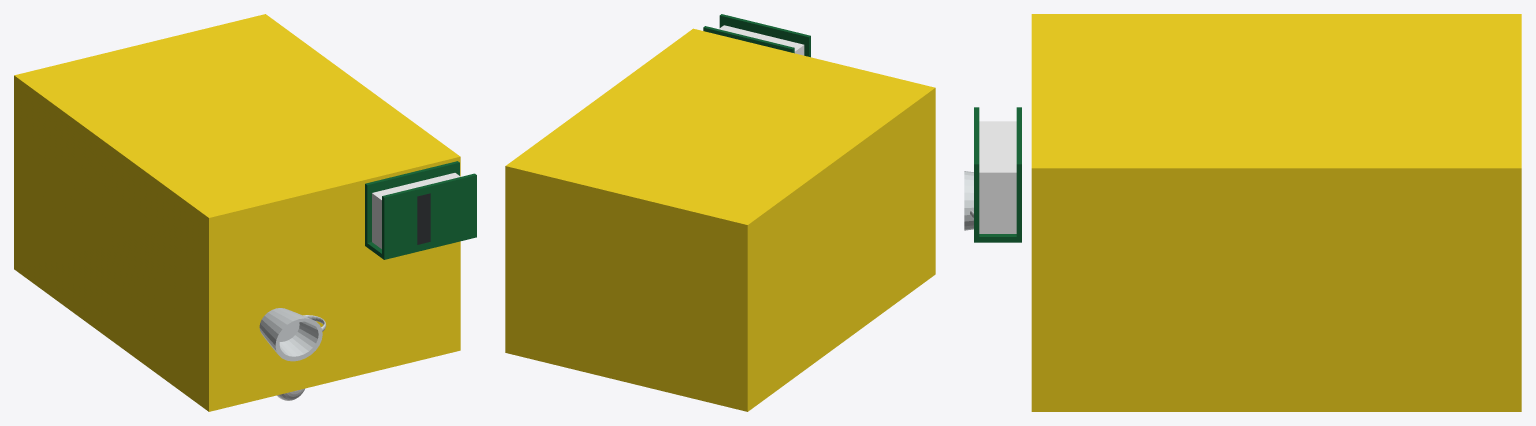
File: tinker.obj
3 renders of one model, left to right at view 1: azimuth 30°, elevation 25°; view 2: azimuth 150°, elevation 25°; view 3: azimuth 270°, elevation 25°, orthographic. The views are drawn at different scales.
Parts seen in each view (by area): view 1: group_0_16768282, group_0_1206582, group_0_14541540, group_0_16448250, group_0_2829873; view 2: group_0_16768282, group_0_1206582, group_0_16448250; view 3: group_0_16768282, group_0_16448250, group_0_1206582, group_0_14541540.
Boxes of the visible parts, left/top/right/bottom form: group_0_16768282: left=14, top=14, right=460, bottom=411; group_0_1206582: left=365, top=161, right=476, bottom=259; group_0_14541540: left=259, top=308, right=326, bottom=361; group_0_16448250: left=277, top=173, right=460, bottom=400; group_0_2829873: left=417, top=193, right=430, bottom=244; group_0_16768282: left=505, top=28, right=935, bottom=411; group_0_1206582: left=703, top=14, right=810, bottom=57; group_0_16448250: left=719, top=25, right=804, bottom=55; group_0_16768282: left=1031, top=14, right=1521, bottom=411; group_0_16448250: left=979, top=121, right=1016, bottom=233; group_0_1206582: left=974, top=107, right=1021, bottom=242; group_0_14541540: left=964, top=171, right=973, bottom=230.
Bounding box in the file's own units: 38 × 35 × 58.
